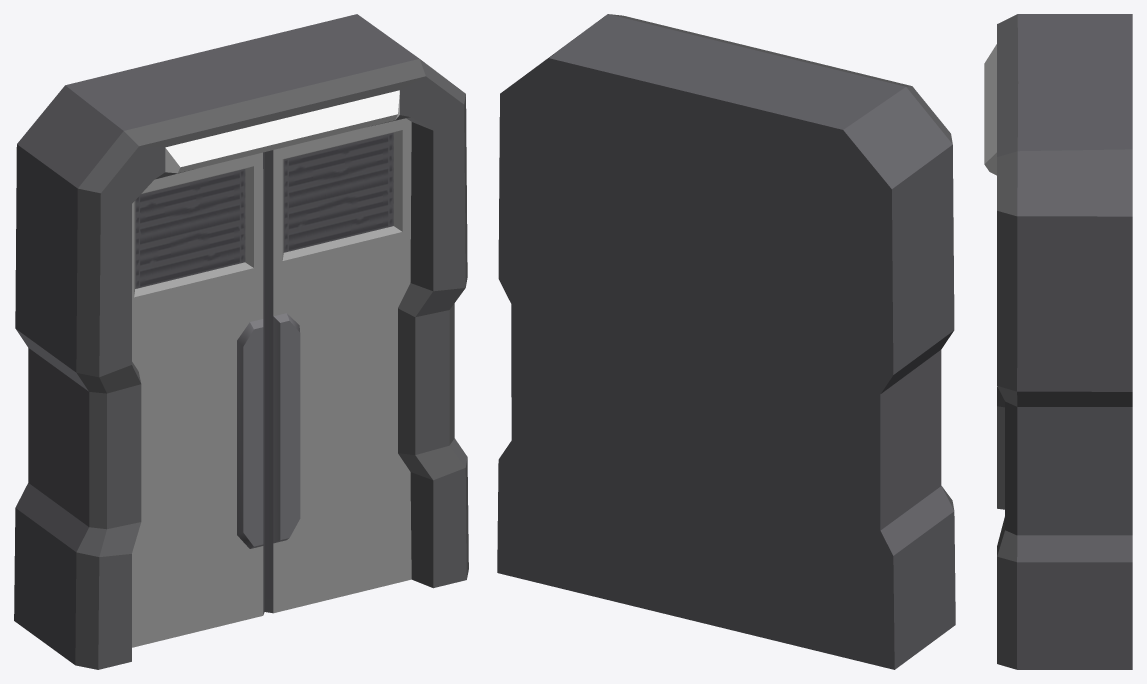
Rendered from city_SM_Prop_Door_01.gltf.
The picture shows the model from 3 angles, left to right: view 1: azimuth 30°, elevation 25°; view 2: azimuth 150°, elevation 25°; view 3: azimuth 270°, elevation 25°; orthographic projection. The views are drawn at different scales.
Parts seen in each view (by area): view 1: SM_Prop_Door_01; view 2: SM_Prop_Door_01; view 3: SM_Prop_Door_01.
Part boxes in pixels (box(x1,y1,x2,y2)): SM_Prop_Door_01: box(14, 14, 468, 669); SM_Prop_Door_01: box(497, 14, 955, 669); SM_Prop_Door_01: box(984, 14, 1132, 669).
Bounding box in the file's own units: 1.86 × 2.36 × 0.6384.
Materials: 1 (1 with a texture image).
